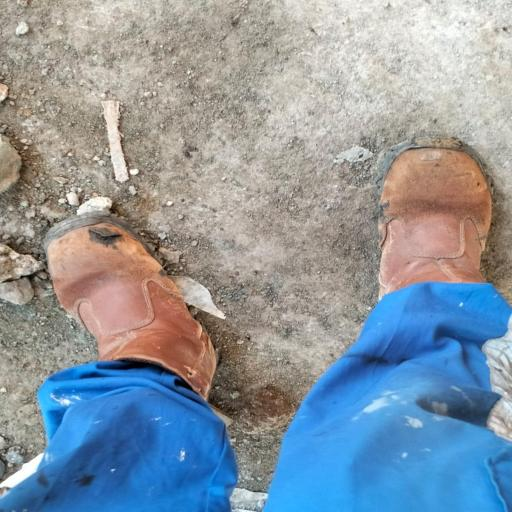safety_shoe: (34, 214, 225, 404), (372, 131, 503, 305)
